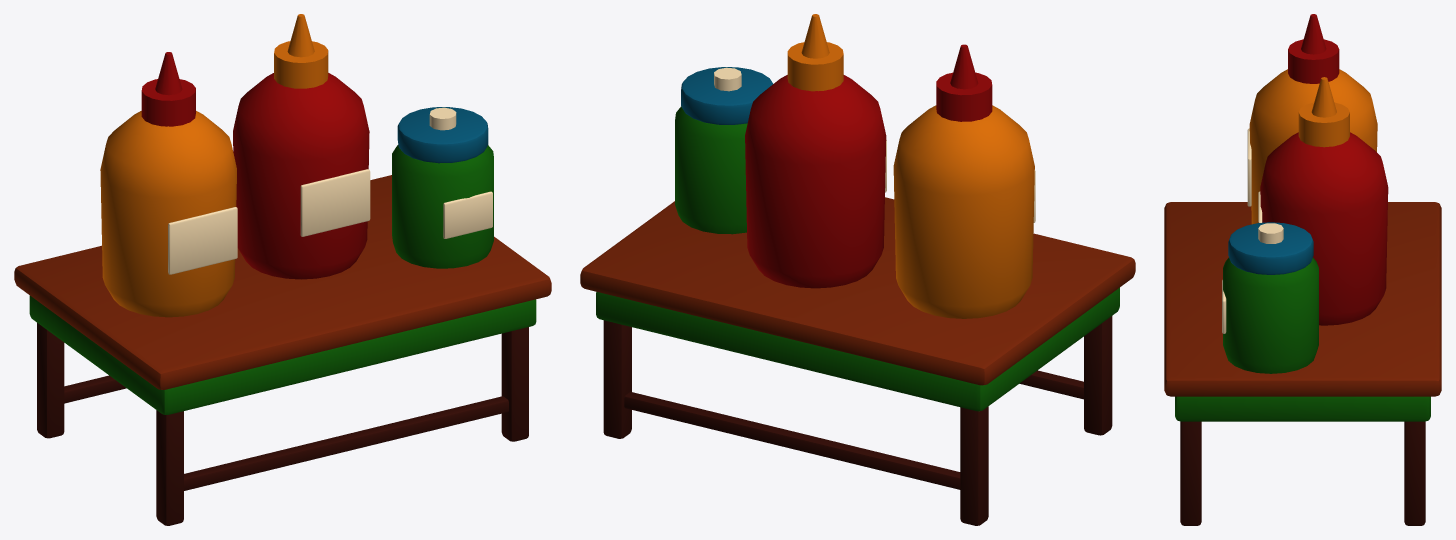
The model's file is CondimentStation.obj.
3 renders of one model, left to right at view 1: azimuth 30°, elevation 25°; view 2: azimuth 150°, elevation 25°; view 3: azimuth 270°, elevation 25°, orthographic. The views are drawn at different scales.
Visible parts, largest first — view 1: CondimentStation; view 2: CondimentStation; view 3: CondimentStation.
Boxes of the visible parts, x1,y1,x2,y2 form: CondimentStation: [14, 14, 551, 525]; CondimentStation: [580, 14, 1135, 525]; CondimentStation: [1164, 14, 1441, 525].
Size of the model in its own units: 4 by 3.92 by 2.6.
